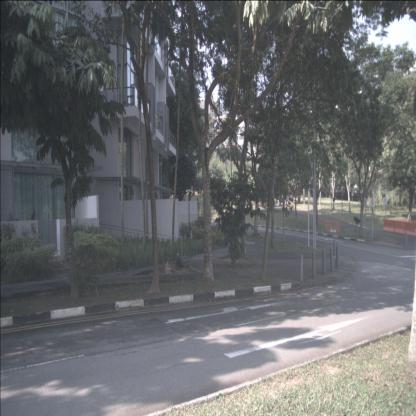barrier: (382, 218, 396, 233), (394, 221, 408, 236), (406, 222, 416, 237)
